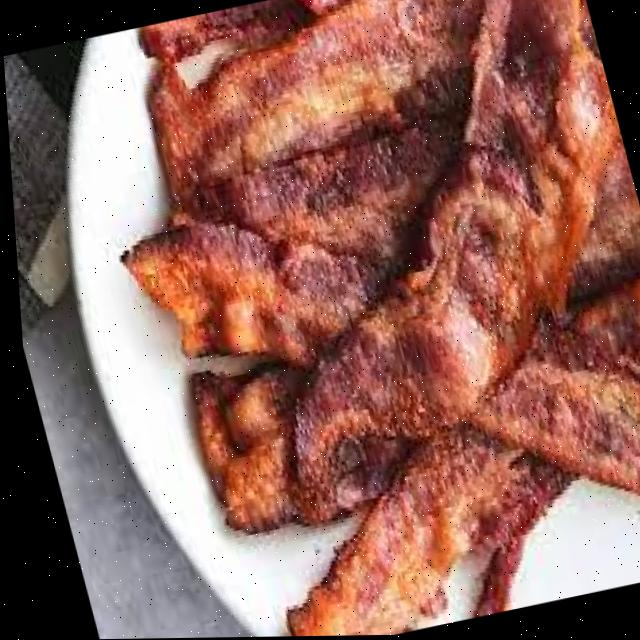Bacon: (289, 0, 619, 507), (148, 0, 483, 268), (281, 431, 509, 637), (122, 215, 384, 368), (466, 356, 640, 499)
